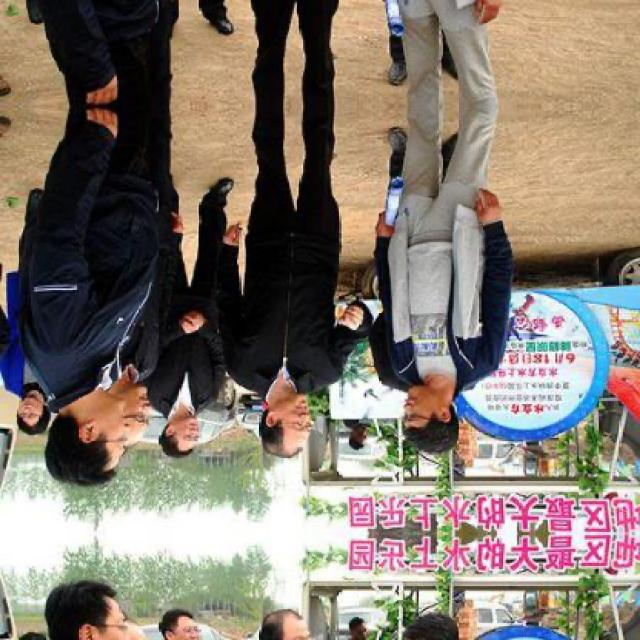sin casco: (44, 349, 154, 506), (379, 353, 469, 472), (251, 349, 324, 472), (114, 364, 189, 451), (158, 396, 205, 476)
